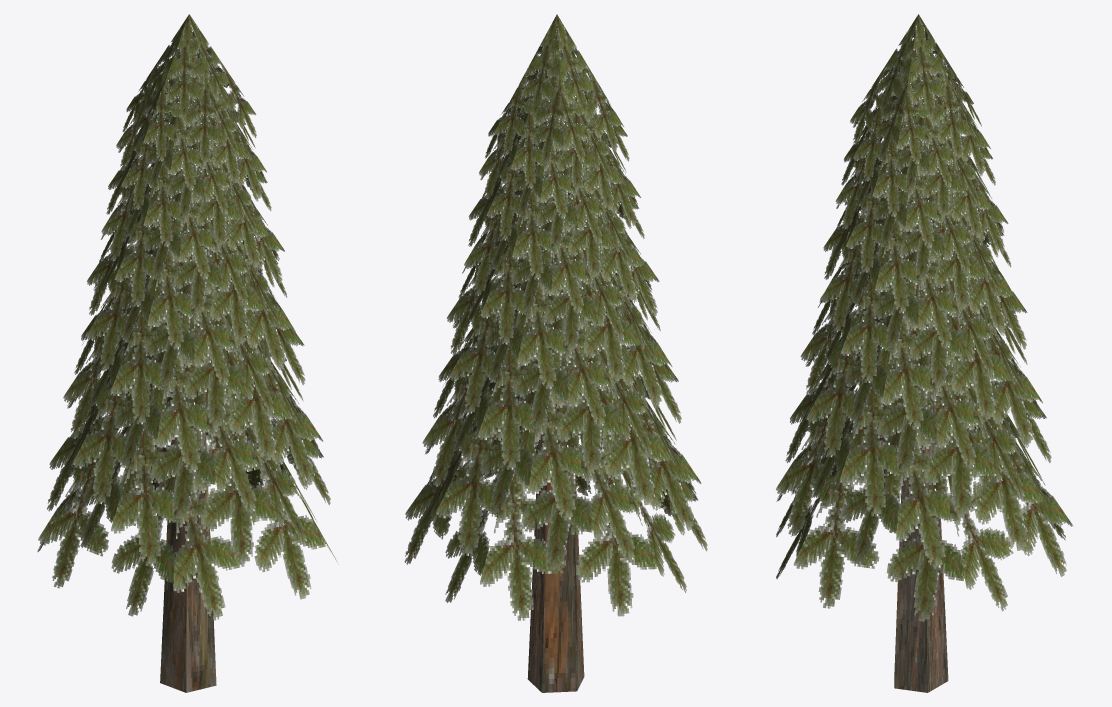
Rendered from pine_tree.glb.
3 renders of one model, left to right at view 1: azimuth 30°, elevation 25°; view 2: azimuth 150°, elevation 25°; view 3: azimuth 270°, elevation 25°, orthographic.
Visible parts, largest first — view 1: Cone; view 2: Cone; view 3: Cone.
Part boxes in pixels (<box>): Cone: <box>37,14,338,692</box>; Cone: <box>404,14,707,692</box>; Cone: <box>776,14,1073,692</box>.
Bounding box in the file's own units: 5.71 × 12.32 × 5.77.
2 materials, 2 textured.
